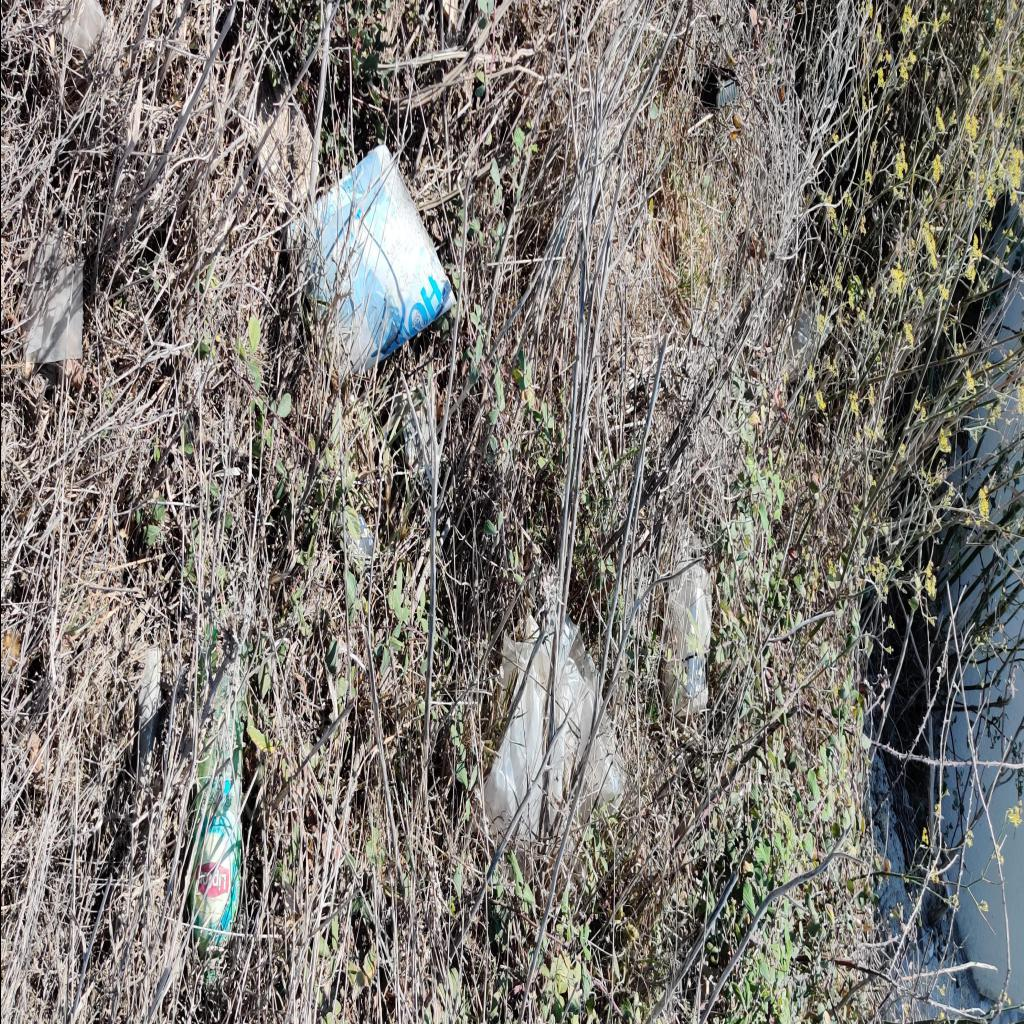Clear plastic bottle: (190, 639, 247, 959)
Disposable food container: (664, 562, 710, 714)
Other plastic: (306, 144, 456, 386)
Other plastic bottle: (786, 306, 832, 382)
Other plastic cup: (692, 68, 736, 110)
Plastic film: (483, 612, 627, 858), (22, 228, 82, 362), (44, 1, 106, 57)
Unlabeled litter: (356, 516, 372, 556)
